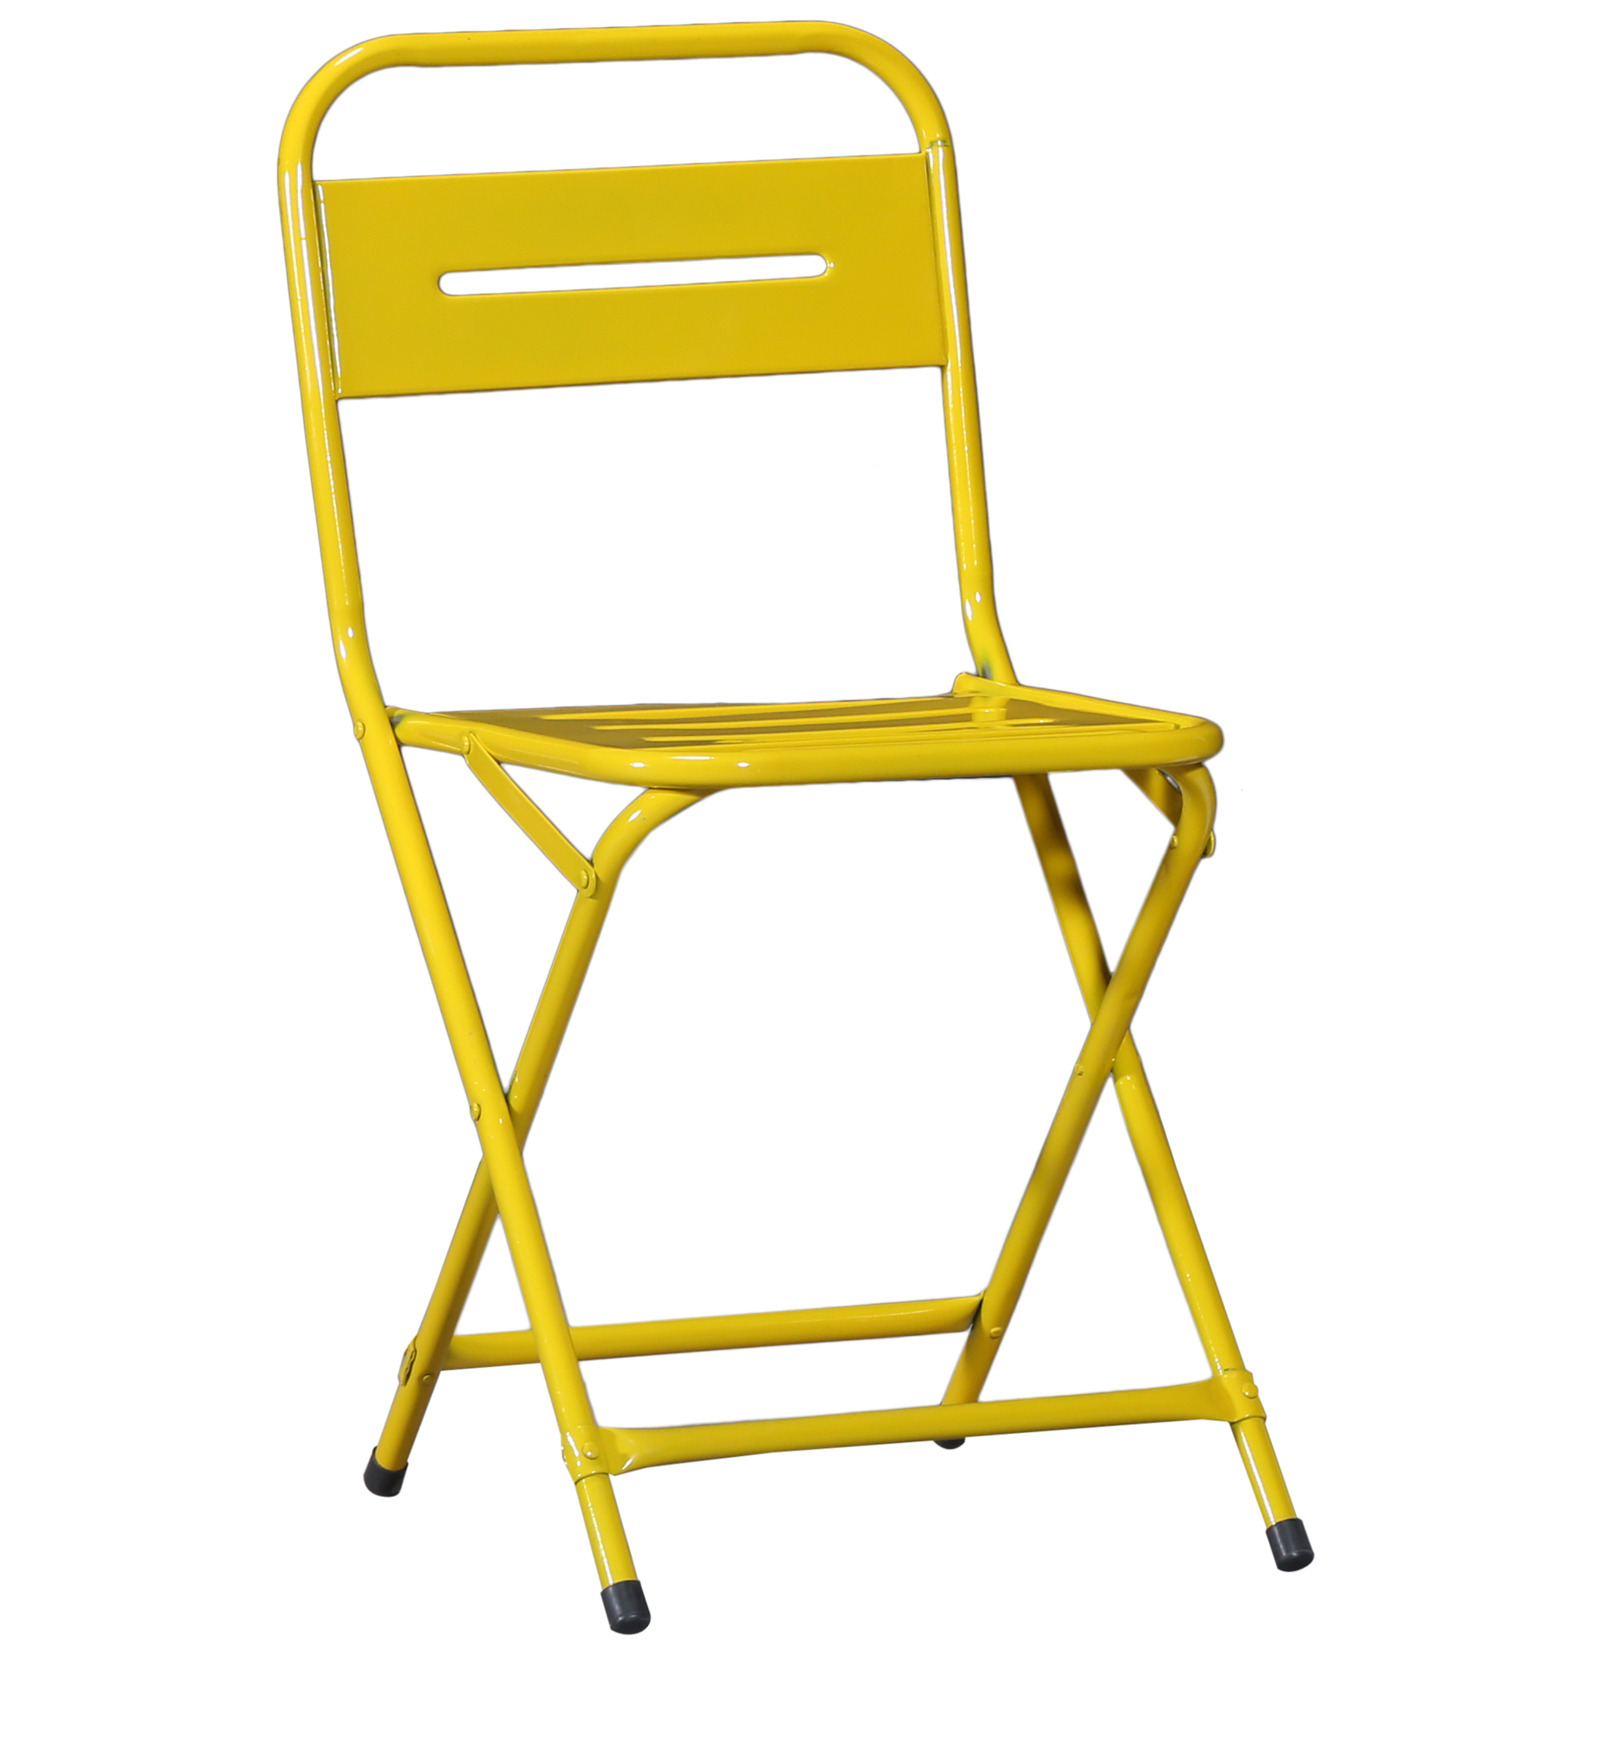Marandoo Grunge Outdoor Folding Chair in Yellow Colour by Bohemiana: (277, 25, 1324, 1630)
